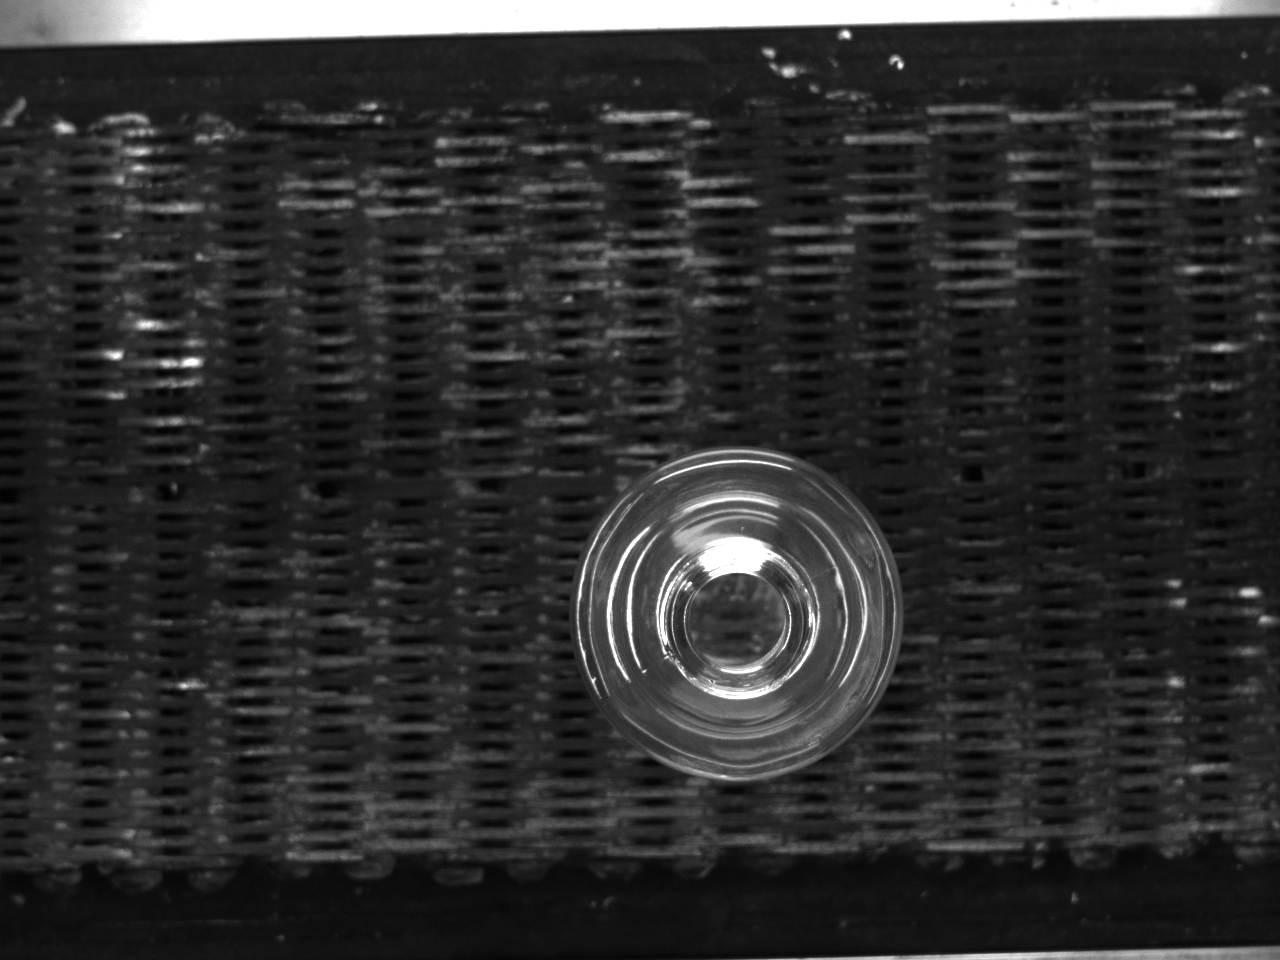bottleneck: (663, 536, 819, 701)
